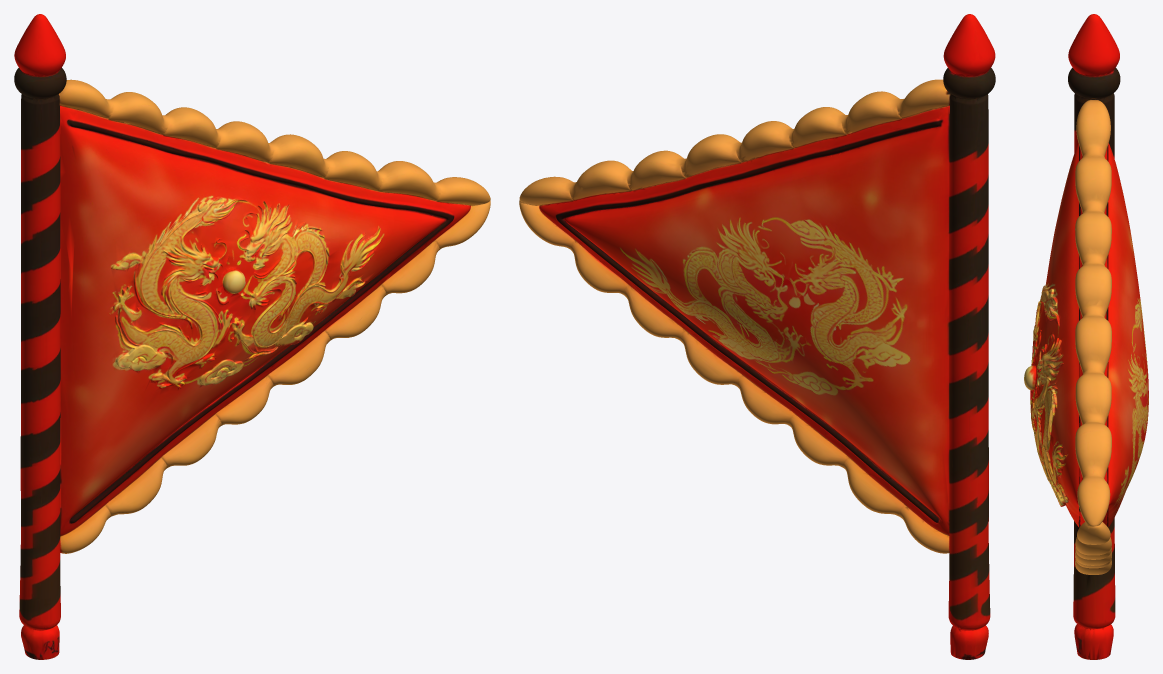
3 views of the same model, side by side, from view 1: azimuth 30°, elevation 25°; view 2: azimuth 150°, elevation 25°; view 3: azimuth 270°, elevation 25° (orthographic).
Visible parts, largest first — view 1: node_0; view 2: node_0; view 3: node_0.
Part boxes in pixels (bbox=[...]): node_0: bbox=[14, 14, 490, 659]; node_0: bbox=[519, 14, 995, 659]; node_0: bbox=[1024, 14, 1148, 659].
Size of the model in its own units: 0.7461 by 0.965 by 0.1713.
Materials: 1 (1 with a texture image).
